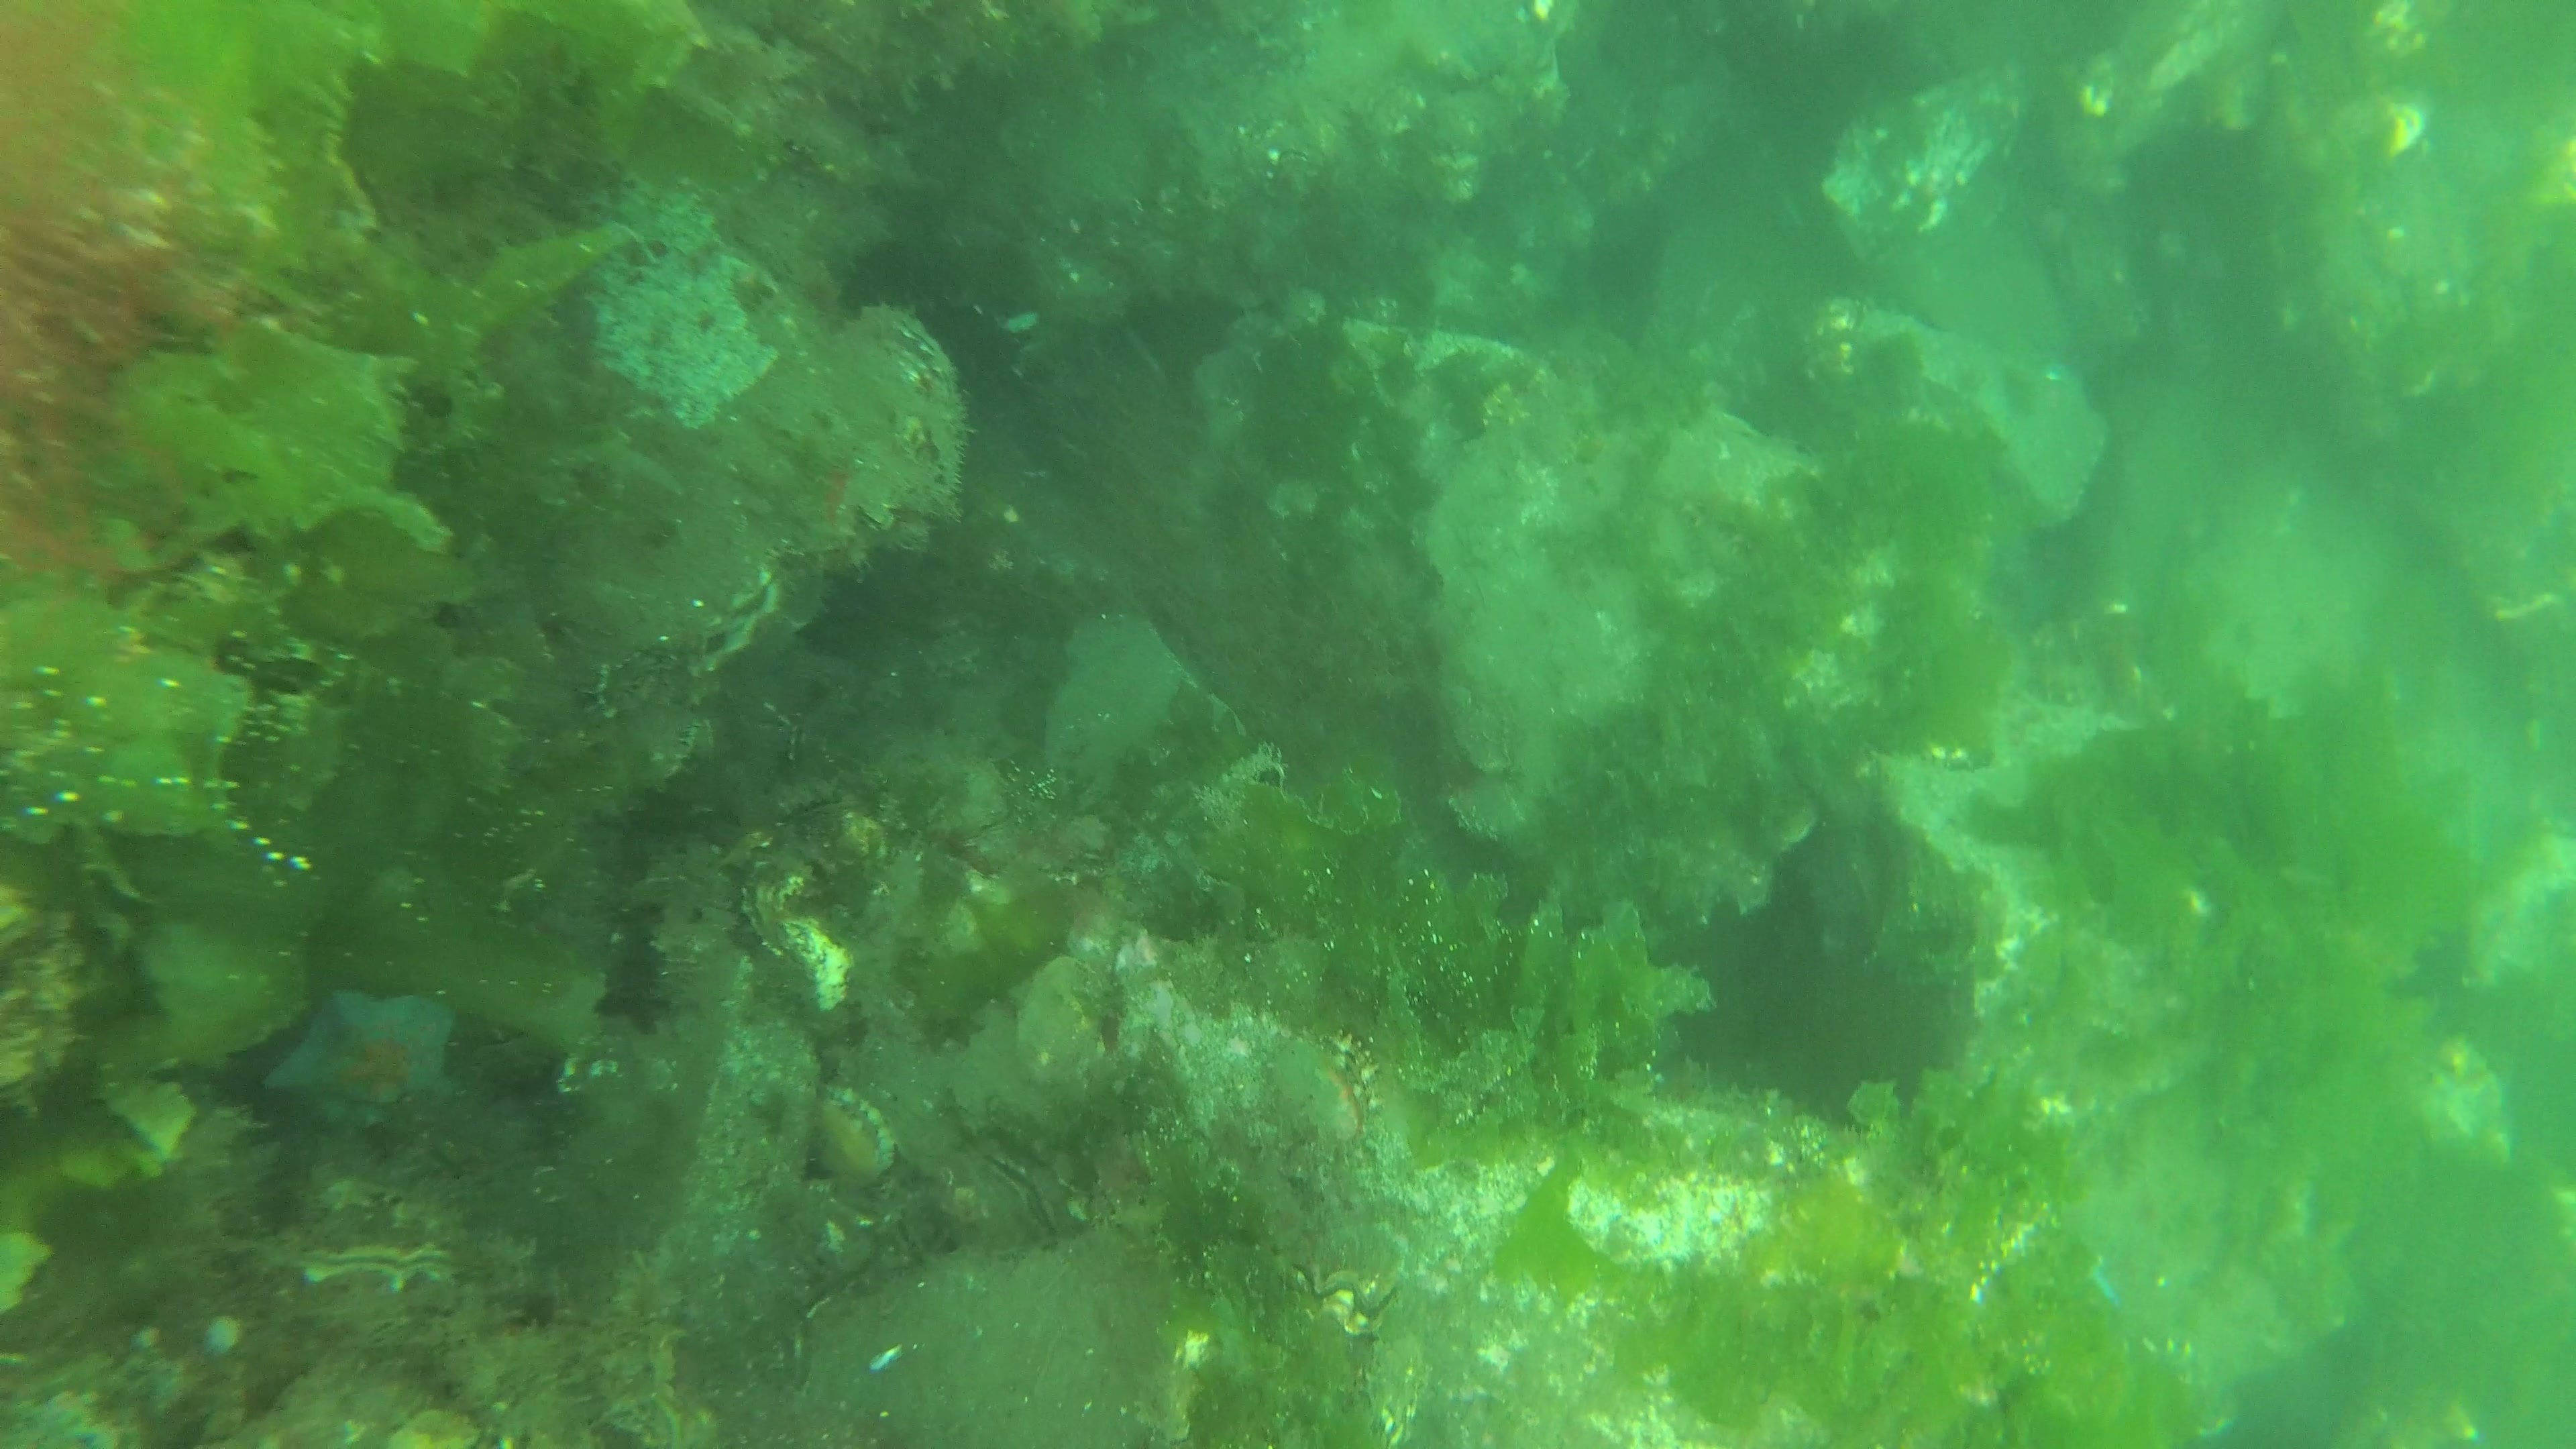scallop: (803, 1077, 904, 1200)
starfish: (269, 980, 472, 1154)
